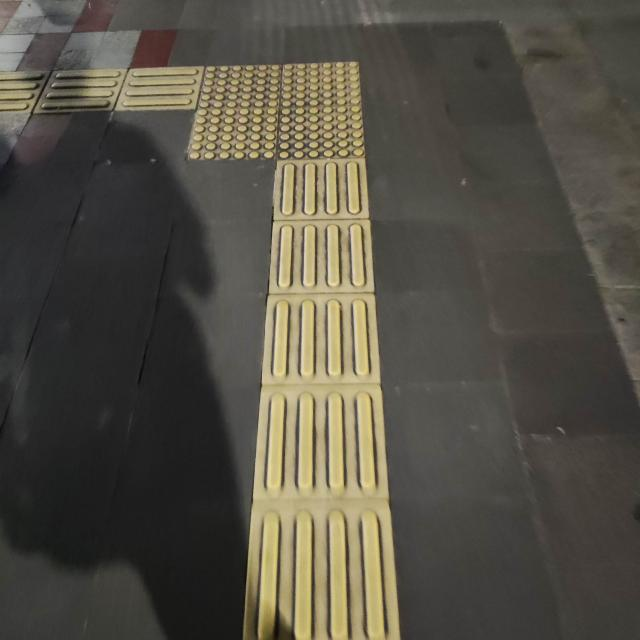kiri: (98, 30, 390, 207)
